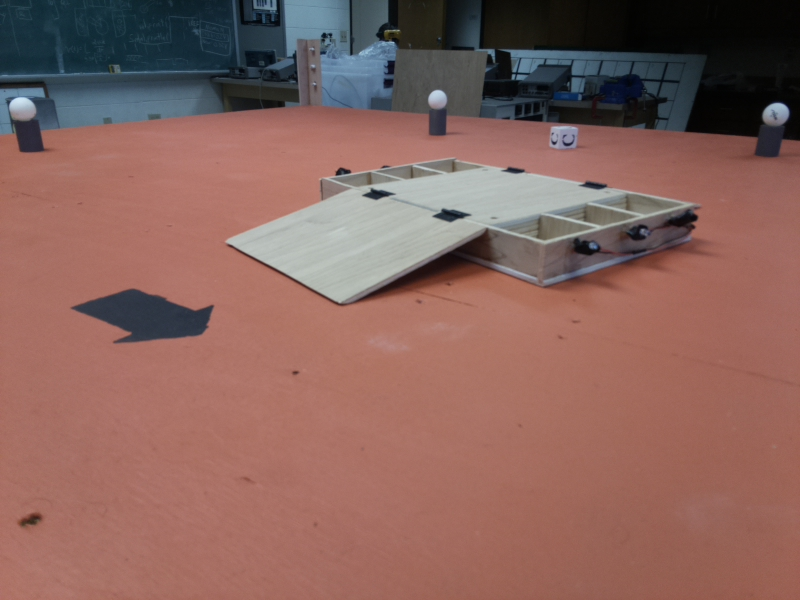blockC: (546, 121, 581, 155)
corner: (296, 37, 327, 111)
obstacle: (5, 93, 47, 165), (754, 102, 792, 155), (422, 89, 447, 137)
side: (519, 193, 708, 293)
slope: (227, 200, 493, 314)
start: (73, 274, 223, 355)
